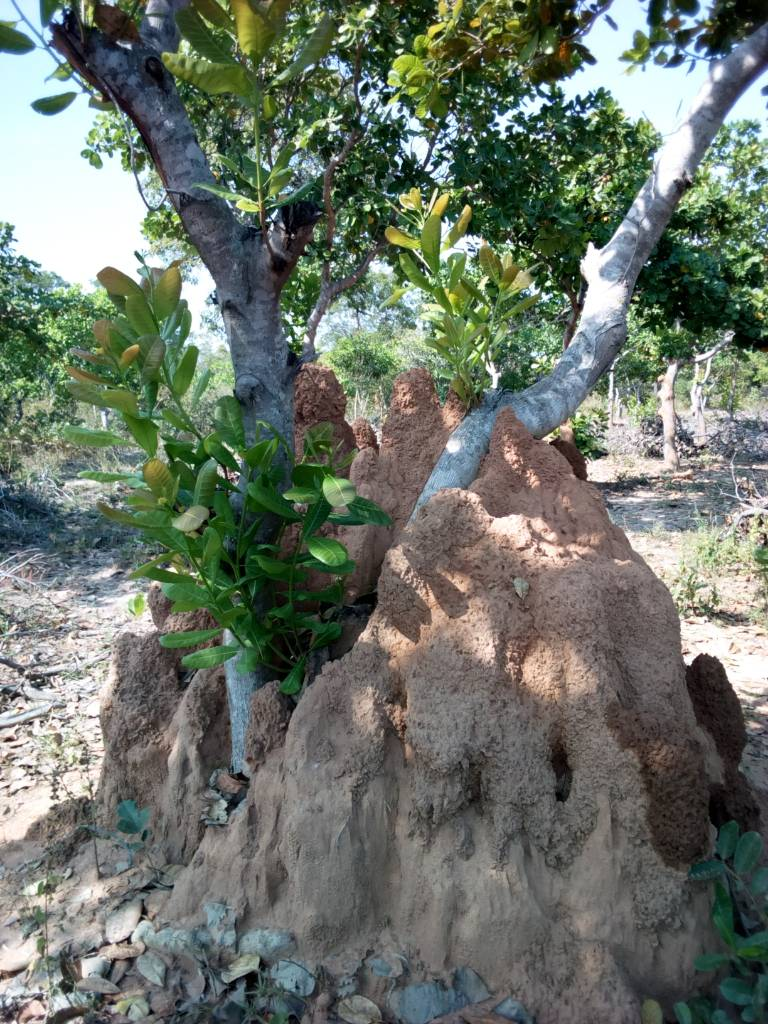Termites: (405, 492, 658, 982), (258, 635, 390, 946), (99, 639, 218, 835)
